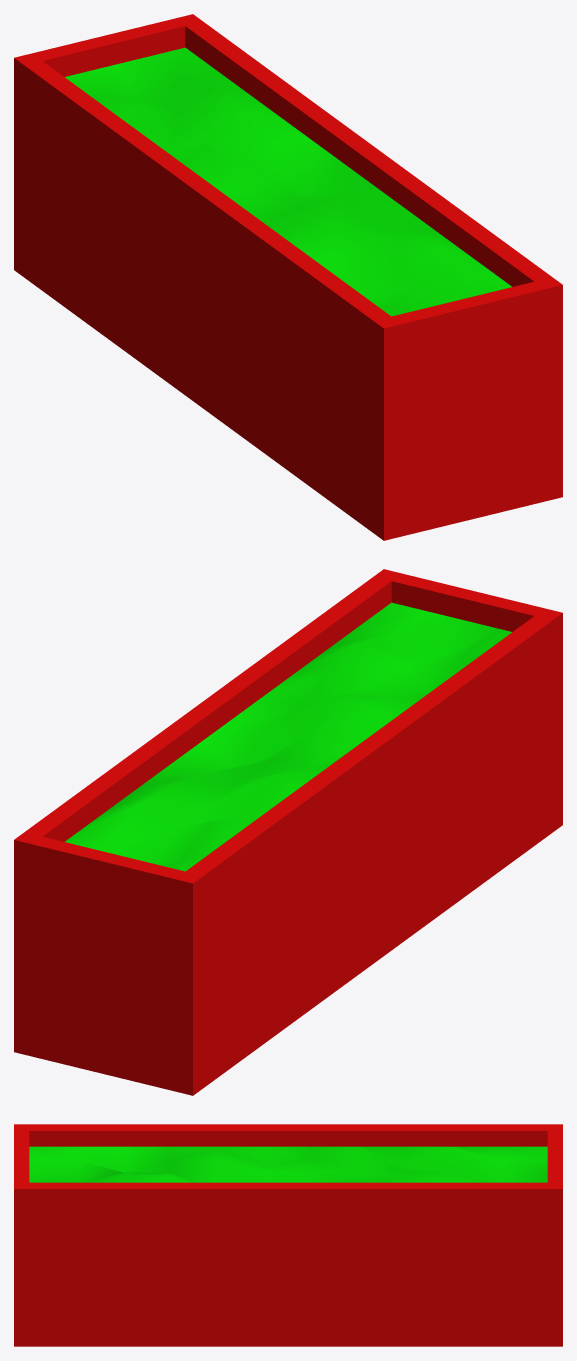
File: PenZhai.fbx
The picture shows the model from 3 angles, top to bottom: view 1: azimuth 30°, elevation 25°; view 2: azimuth 150°, elevation 25°; view 3: azimuth 270°, elevation 25°; orthographic projection. The views are drawn at different scales.
Parts seen in each view (by area): view 1: polySurface12, polySurface13; view 2: polySurface12, polySurface13; view 3: polySurface12, polySurface13.
Part boxes in pixels (x1,y1,x2,y2): polySurface12: (14, 14, 562, 540); polySurface13: (65, 47, 511, 316); polySurface12: (14, 569, 562, 1095); polySurface13: (65, 602, 511, 871); polySurface12: (14, 1124, 562, 1346); polySurface13: (29, 1146, 547, 1182).
Bounding box in the file's own units: 0.4464 × 0.5057 × 1.6.
